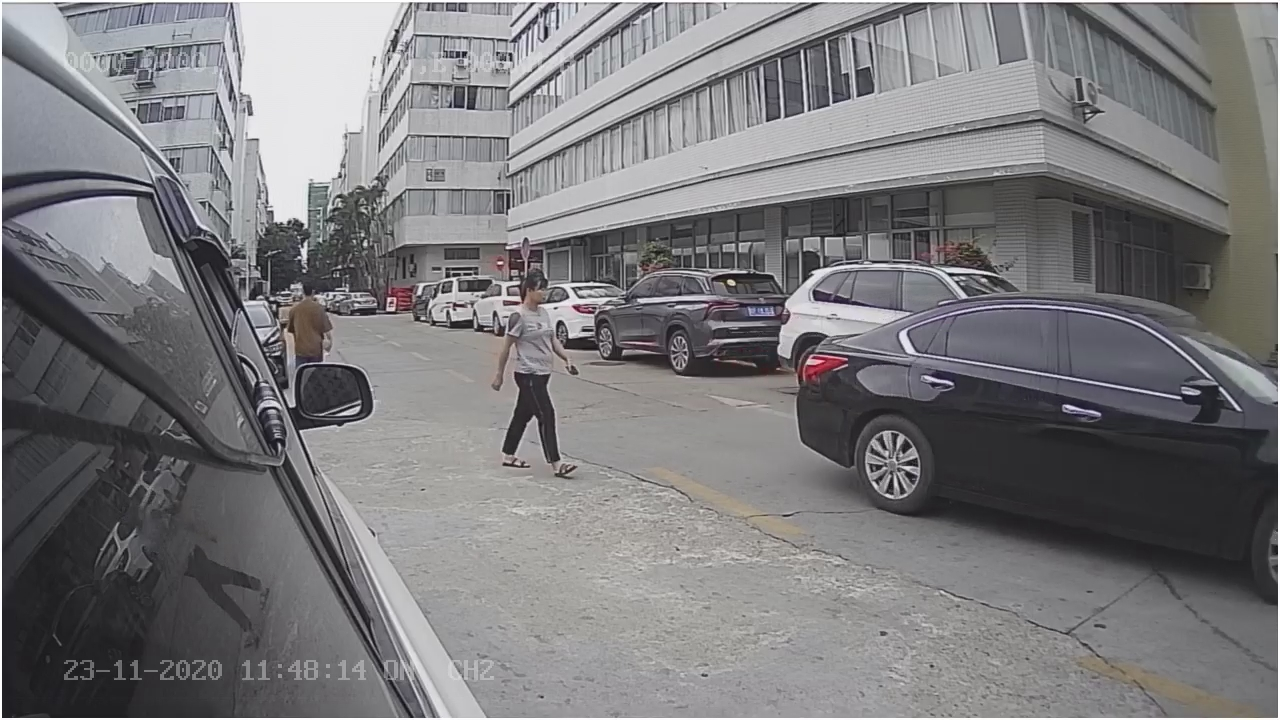person: (487, 267, 586, 481)
